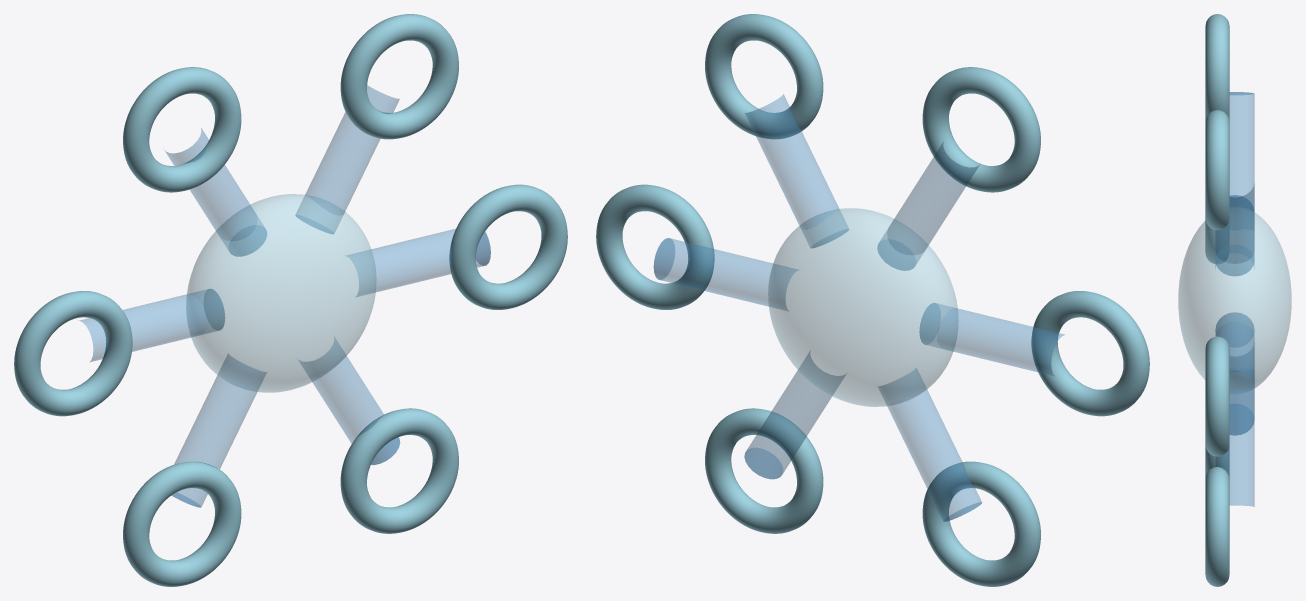
The picture shows the model from 3 angles, left to right: view 1: azimuth 30°, elevation 25°; view 2: azimuth 150°, elevation 25°; view 3: azimuth 270°, elevation 25°; orthographic projection. The views are drawn at different scales.
Visible parts, largest first — view 1: radial-hub, socket-0, socket-3, socket-1, socket-4, socket-5, socket-2, spoke-4, spoke-1, spoke-3, spoke-0, spoke-2 (+1 smaller); view 2: radial-hub, socket-3, socket-0, socket-1, socket-2, socket-5, socket-4, spoke-1, spoke-4, spoke-0, spoke-3, spoke-2 (+1 smaller); view 3: radial-hub, spoke-5, spoke-2, socket-0, socket-1, socket-5, spoke-1, socket-2, spoke-0, spoke-4, socket-3, socket-4 (+1 smaller).
Part boxes in pixels (box(x1,y1,x2,y2)): radial-hub: box(186, 194, 376, 392); socket-0: box(449, 184, 567, 309); socket-3: box(14, 291, 132, 416); socket-1: box(340, 14, 458, 139); socket-4: box(123, 461, 241, 586); socket-5: box(340, 408, 458, 533); socket-2: box(123, 67, 241, 192); spoke-4: box(171, 354, 266, 507); spoke-1: box(295, 85, 399, 233); spoke-3: box(79, 289, 224, 361); spoke-0: box(346, 229, 490, 296); spoke-2: box(165, 128, 266, 256); radial-hub: box(768, 208, 958, 406); socket-3: box(1031, 291, 1149, 416); socket-0: box(596, 184, 714, 309); socket-1: box(705, 14, 823, 139); socket-2: box(922, 67, 1040, 192); socket-5: box(705, 408, 823, 533); socket-4: box(922, 461, 1040, 586); spoke-1: box(745, 94, 848, 248); spoke-4: box(878, 368, 981, 521); spoke-0: box(653, 238, 797, 310); spoke-3: box(919, 303, 1064, 375); spoke-2: box(877, 142, 979, 270); radial-hub: box(1178, 207, 1291, 393); spoke-5: box(1215, 369, 1254, 506); spoke-2: box(1229, 92, 1254, 211); socket-0: box(1205, 336, 1229, 456); socket-1: box(1205, 110, 1229, 230); socket-5: box(1205, 467, 1229, 586); spoke-1: box(1215, 184, 1254, 275); socket-2: box(1205, 14, 1229, 121); spoke-0: box(1215, 312, 1254, 385); spoke-4: box(1230, 389, 1254, 435); socket-3: box(1205, 218, 1228, 263); socket-4: box(1205, 445, 1229, 478).
Size of the model in its own units: 2.63 by 2.35 by 0.52.
